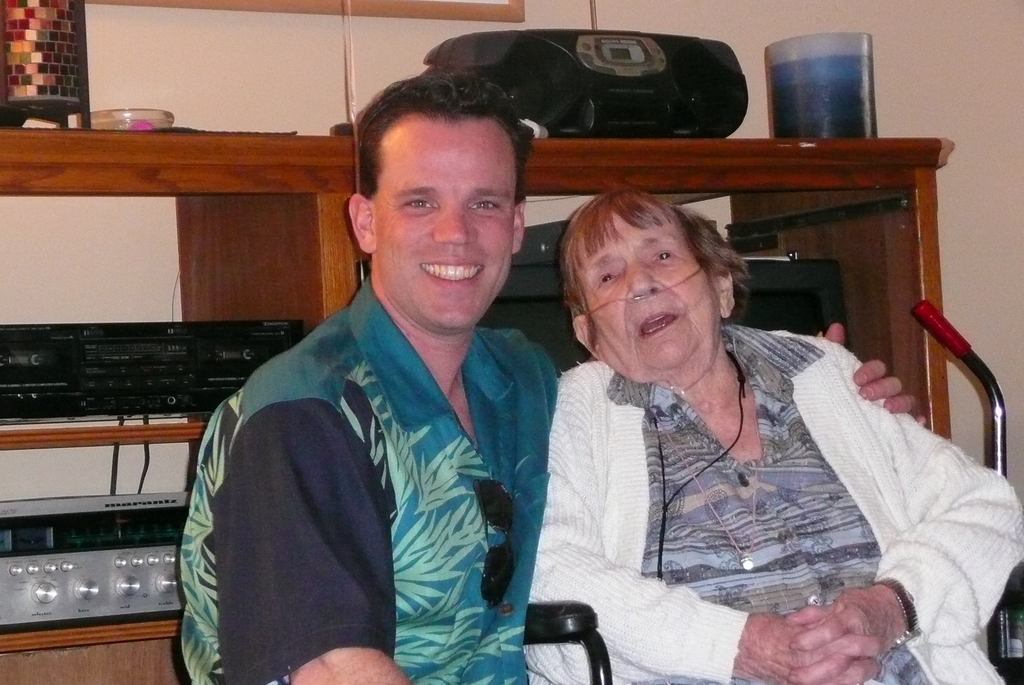Human-face: (376, 122, 515, 329), (577, 213, 721, 382)
